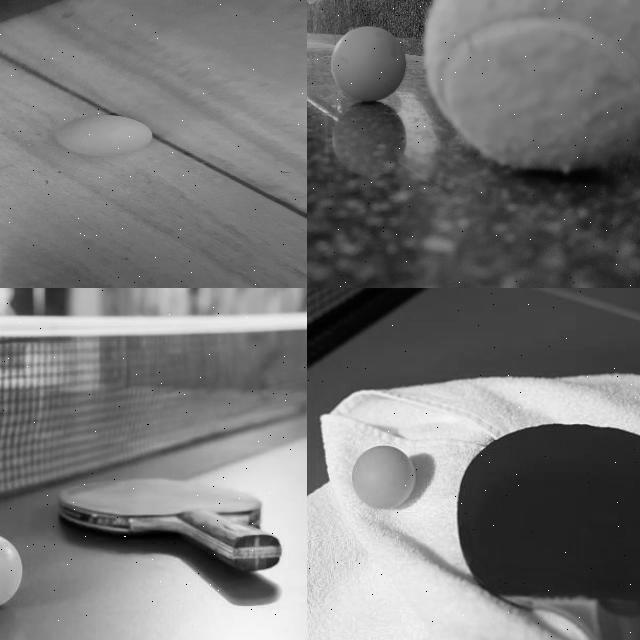ping-pong-ball: (330, 24, 406, 100), (350, 446, 414, 508), (56, 114, 150, 155), (0, 533, 23, 608)
